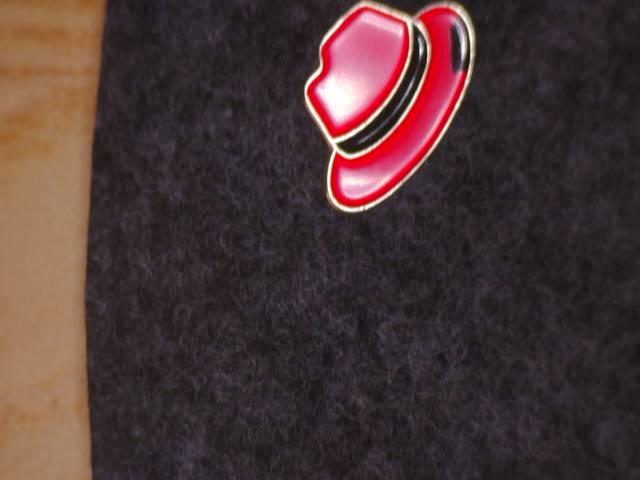Red-Hat: (298, 0, 524, 234)
Scratch: (432, 8, 489, 86)
